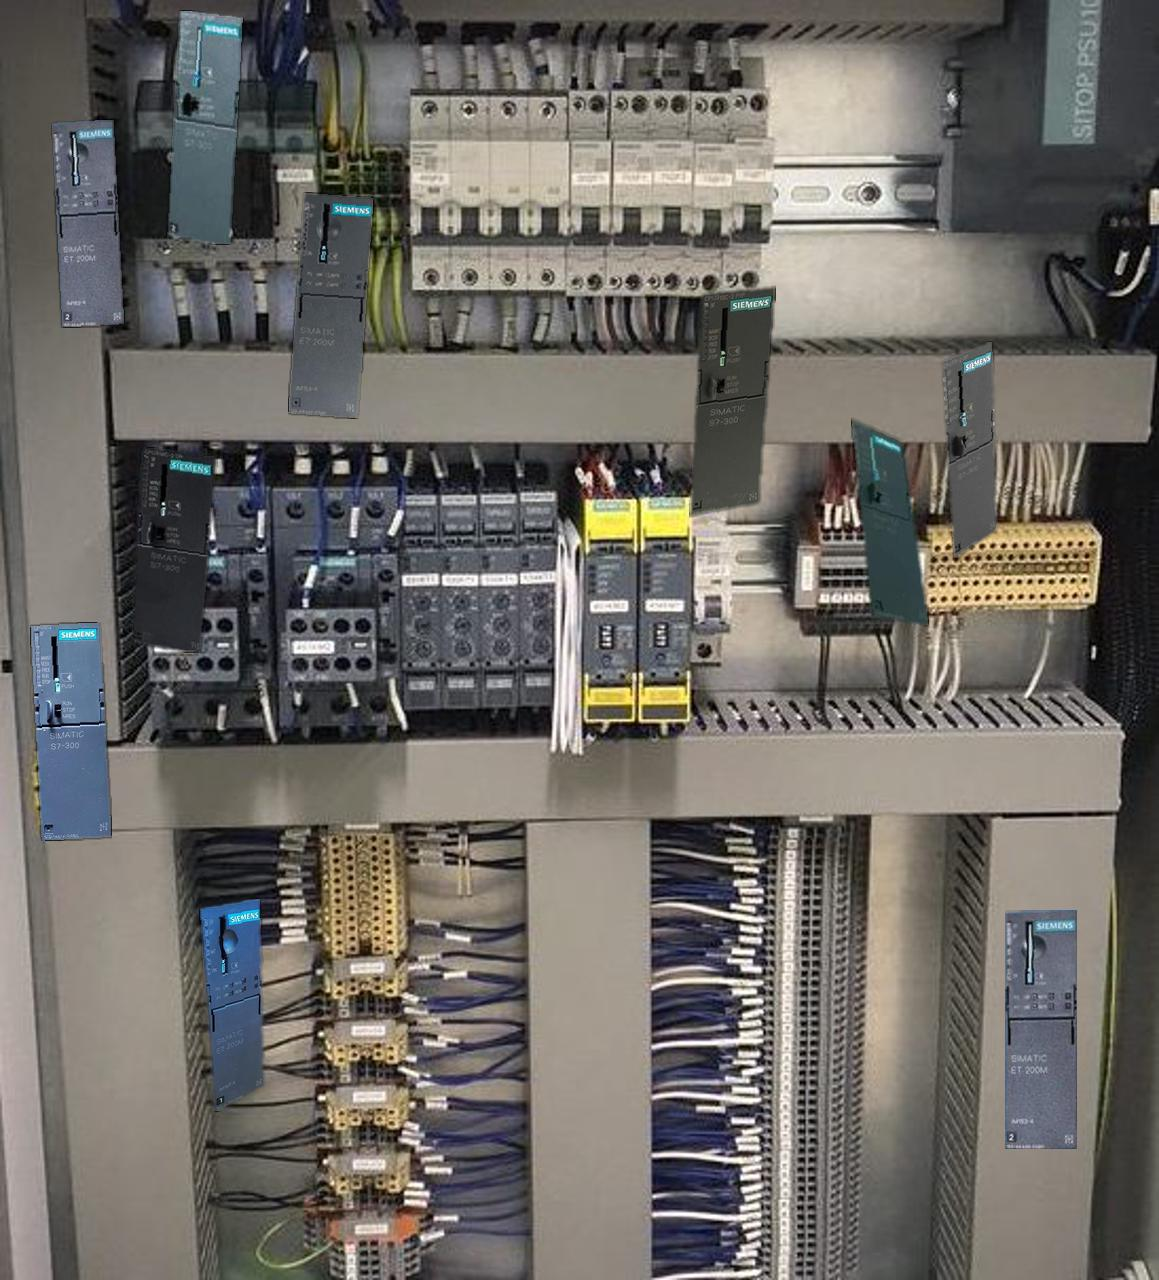Siemens: (690, 287, 774, 515), (30, 622, 112, 840), (167, 11, 242, 243), (132, 447, 215, 652), (852, 419, 927, 624), (941, 342, 996, 557)
